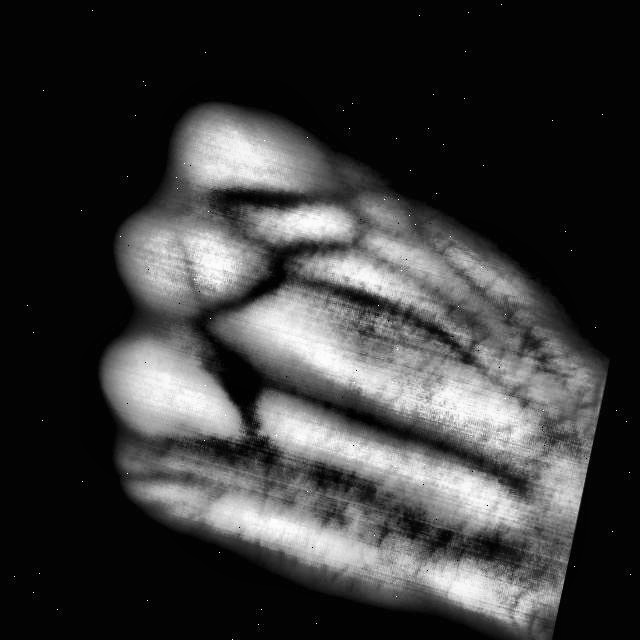Vein: (263, 372, 489, 476)
